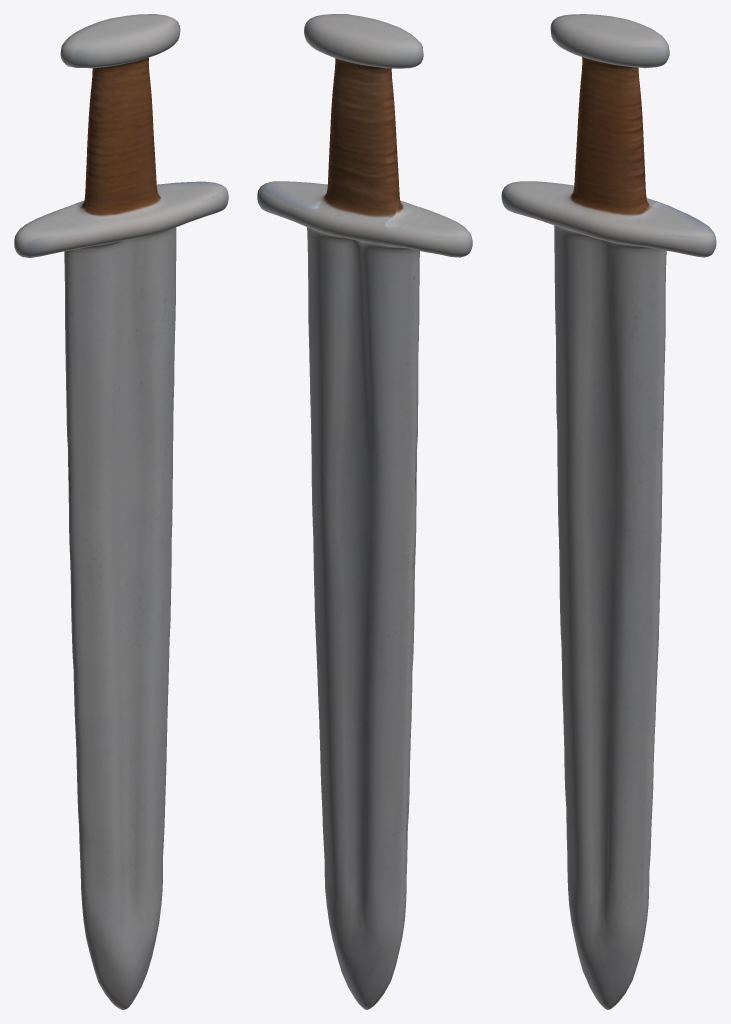
File: Sword.fbx
3 views of the same model, side by side, from view 1: azimuth 30°, elevation 25°; view 2: azimuth 150°, elevation 25°; view 3: azimuth 330°, elevation 25° (orthographic).
Parts seen in each view (by area): view 1: tripo_node_e85fed80-2139-4b41-b723-5bb7eb826989; view 2: tripo_node_e85fed80-2139-4b41-b723-5bb7eb826989; view 3: tripo_node_e85fed80-2139-4b41-b723-5bb7eb826989.
Boxes of the visible parts, bbox=[...] form: tripo_node_e85fed80-2139-4b41-b723-5bb7eb826989: bbox=[14, 14, 228, 1009]; tripo_node_e85fed80-2139-4b41-b723-5bb7eb826989: bbox=[257, 14, 472, 1009]; tripo_node_e85fed80-2139-4b41-b723-5bb7eb826989: bbox=[501, 14, 716, 1009].
Size of the model in its own units: 21.36 by 94.77 by 7.15.
Materials: 1 (1 with a texture image).
